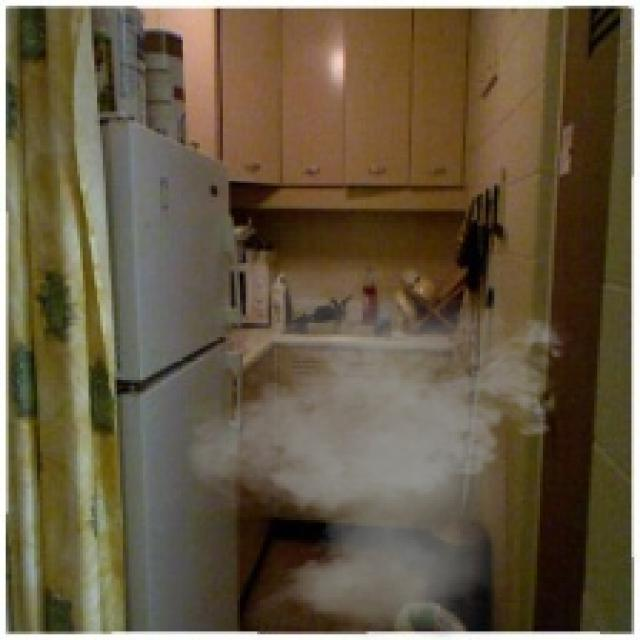smoke: (171, 269, 580, 637)
